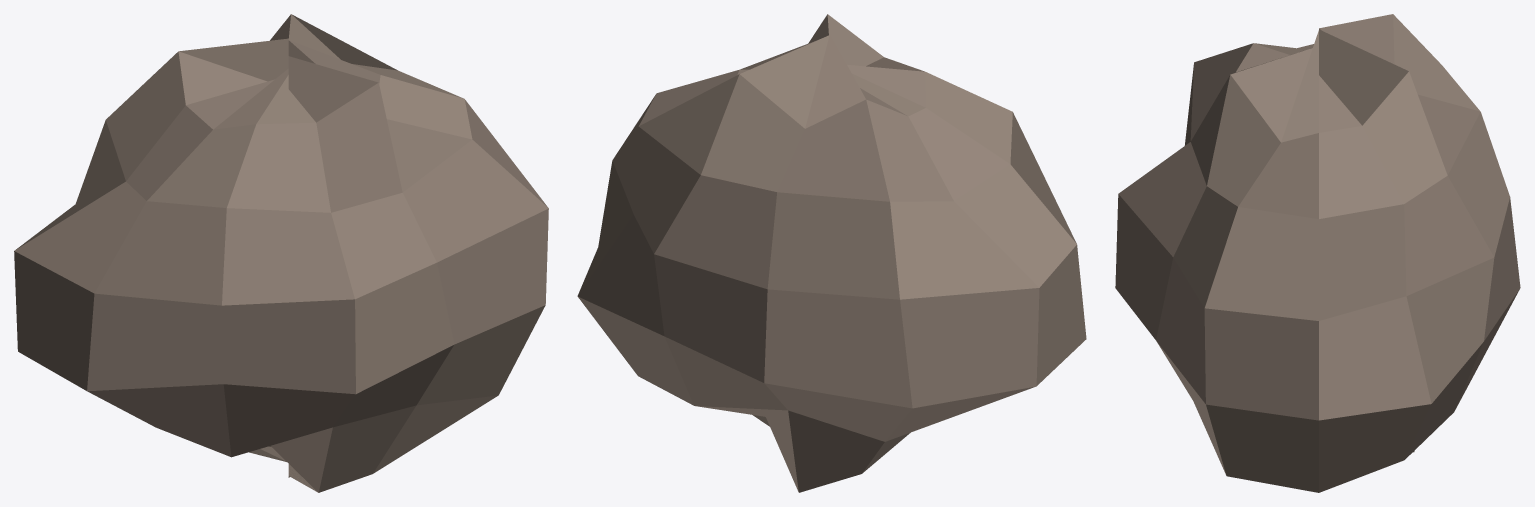
File: Rock02.glb
3 renders of one model, left to right at view 1: azimuth 30°, elevation 25°; view 2: azimuth 150°, elevation 25°; view 3: azimuth 270°, elevation 25°, orthographic. The views are drawn at different scales.
Visible parts, largest first — view 1: Rock02Hull; view 2: Rock02Hull; view 3: Rock02Hull.
Boxes of the visible parts, box(x1,y1,x2,y2) form: Rock02Hull: box(14, 14, 548, 492); Rock02Hull: box(577, 14, 1086, 492); Rock02Hull: box(1115, 14, 1520, 492).
Size of the model in its own units: 2.08 by 1.82 by 1.51.
